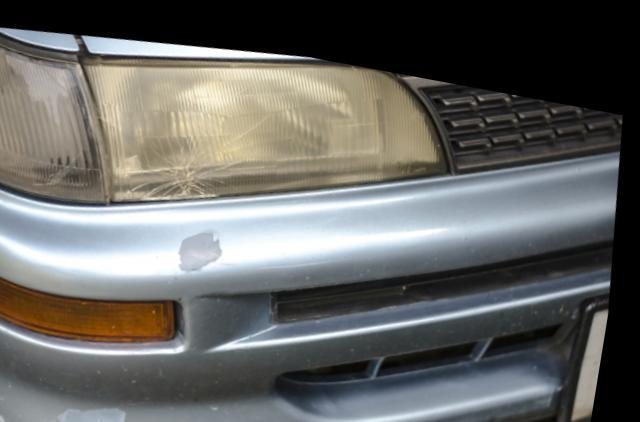lamp broken: (84, 53, 454, 201)
scratch: (183, 218, 235, 267), (50, 399, 141, 422)
